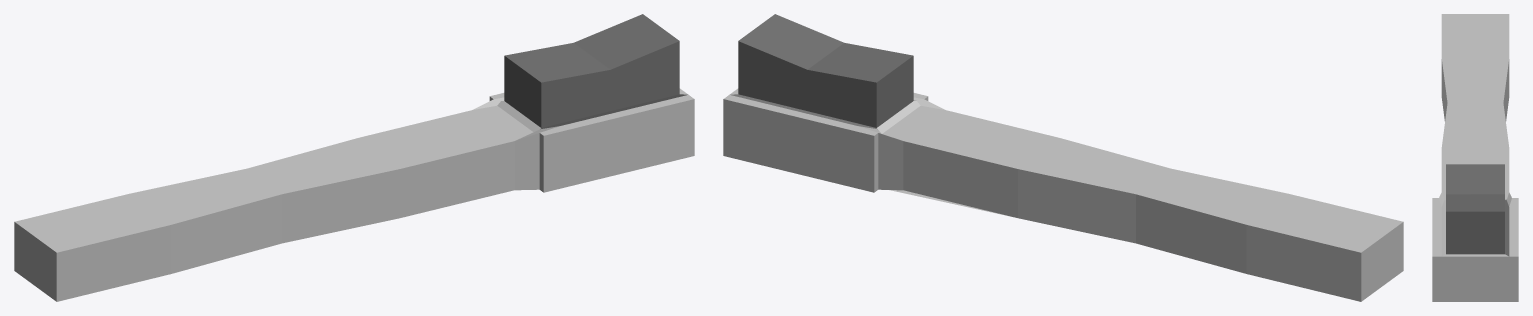
File: ToothbrushModel.fbx
The picture shows the model from 3 angles, left to right: view 1: azimuth 30°, elevation 25°; view 2: azimuth 150°, elevation 25°; view 3: azimuth 270°, elevation 25°; orthographic projection. The views are drawn at different scales.
Visible parts, largest first — view 1: ToothbrushModel; view 2: ToothbrushModel; view 3: ToothbrushModel.
Part boxes in pixels (x1,y1,x2,y2): ToothbrushModel: (14,14,694,301); ToothbrushModel: (723,14,1403,301); ToothbrushModel: (1432,14,1518,301).
Bounding box in the file's own units: 30.31 × 5.11 × 4.49.
